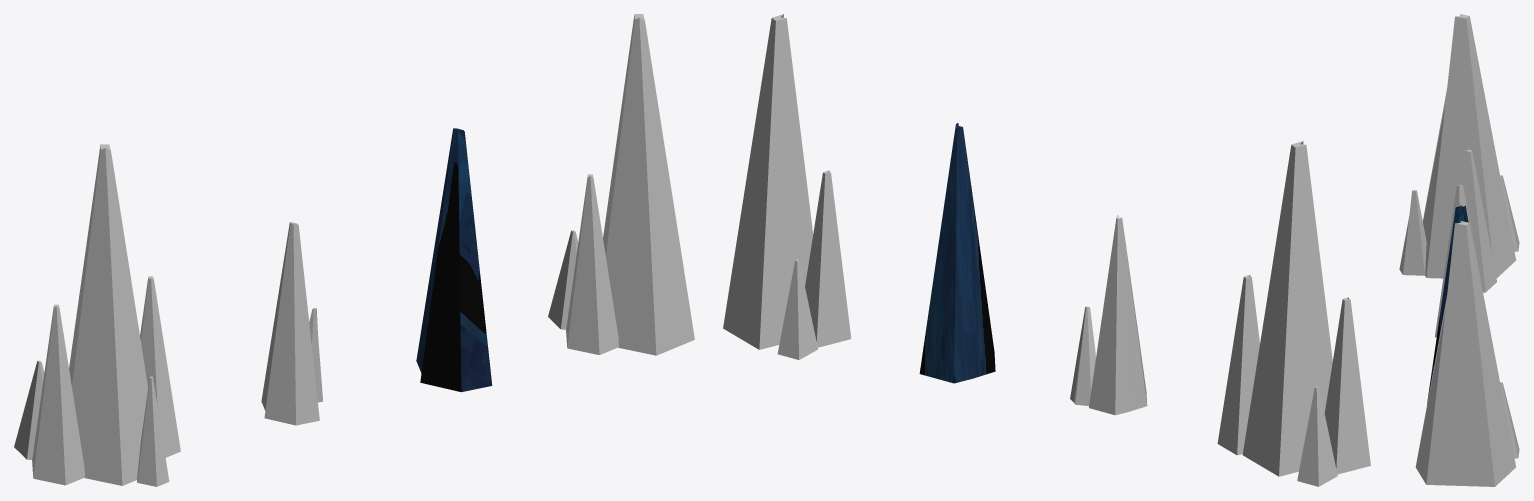
The model's file is stolactites.fbx.
The picture shows the model from 3 angles, left to right: view 1: azimuth 30°, elevation 25°; view 2: azimuth 150°, elevation 25°; view 3: azimuth 270°, elevation 25°; orthographic projection. The views are drawn at different scales.
Parts seen in each view (by area): view 1: Cylinder.006, Cylinder, Cylinder.004, Cylinder.005; view 2: Cylinder.006, Cylinder, Cylinder.004, Cylinder.005; view 3: Cylinder, Cylinder.006, Cylinder.004, Cylinder.005.
Part boxes in pixels (<box>): Cylinder.006: <box>14,144,180,486</box>; Cylinder: <box>548,14,694,355</box>; Cylinder.004: <box>416,128,492,392</box>; Cylinder.005: <box>261,222,322,425</box>; Cylinder.006: <box>1217,141,1370,486</box>; Cylinder: <box>723,14,851,359</box>; Cylinder.004: <box>919,123,995,383</box>; Cylinder.005: <box>1070,215,1147,415</box>; Cylinder: <box>1415,221,1519,486</box>; Cylinder.006: <box>1399,14,1519,292</box>; Cylinder.004: <box>1427,205,1468,403</box>; Cylinder.005: <box>1435,184,1482,337</box>.
Bounding box in the file's own units: 4.76 × 2.21 × 0.9669.
